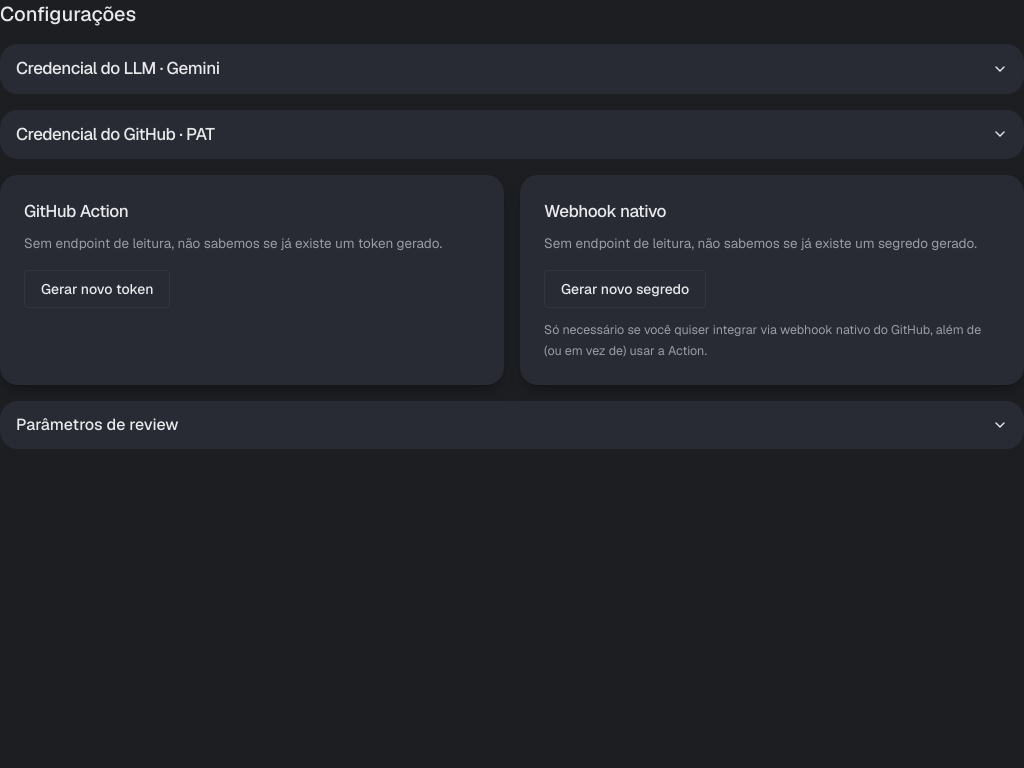
it: SettingsPage › generating a webhook secret shows both the URL and the secret in the modal
Click the button "Gerar novo segredo" at point(625, 289), box [544,270,706,308]
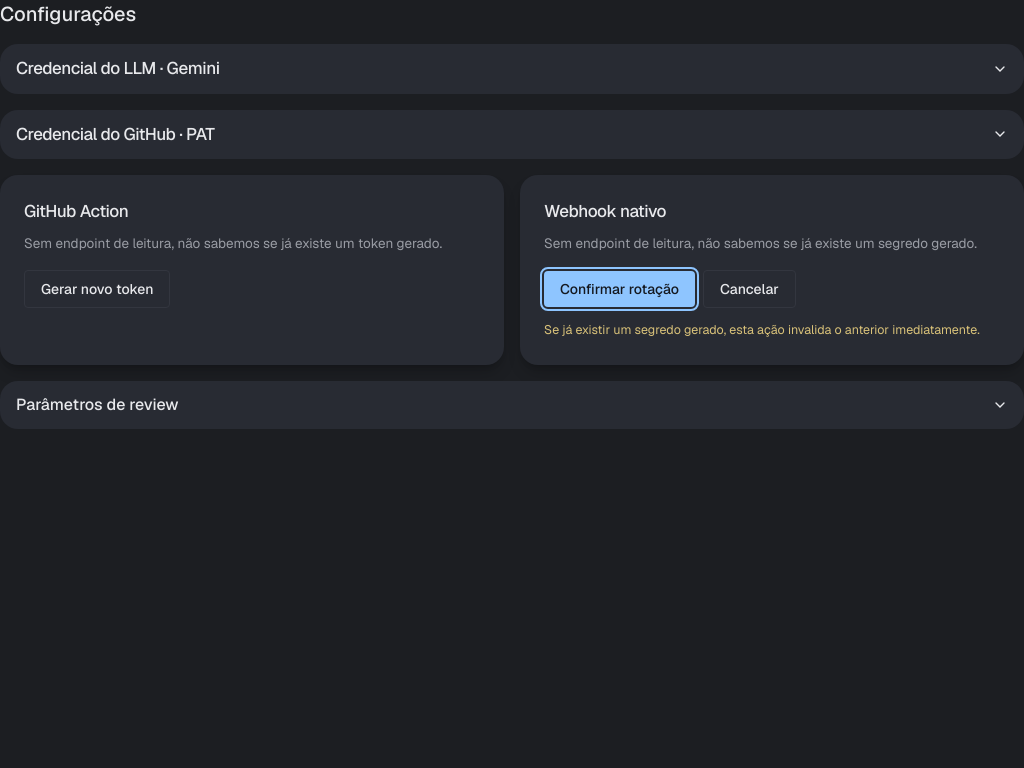
Click the button "Confirmar rotação" at point(619, 289), box [544,271,695,307]
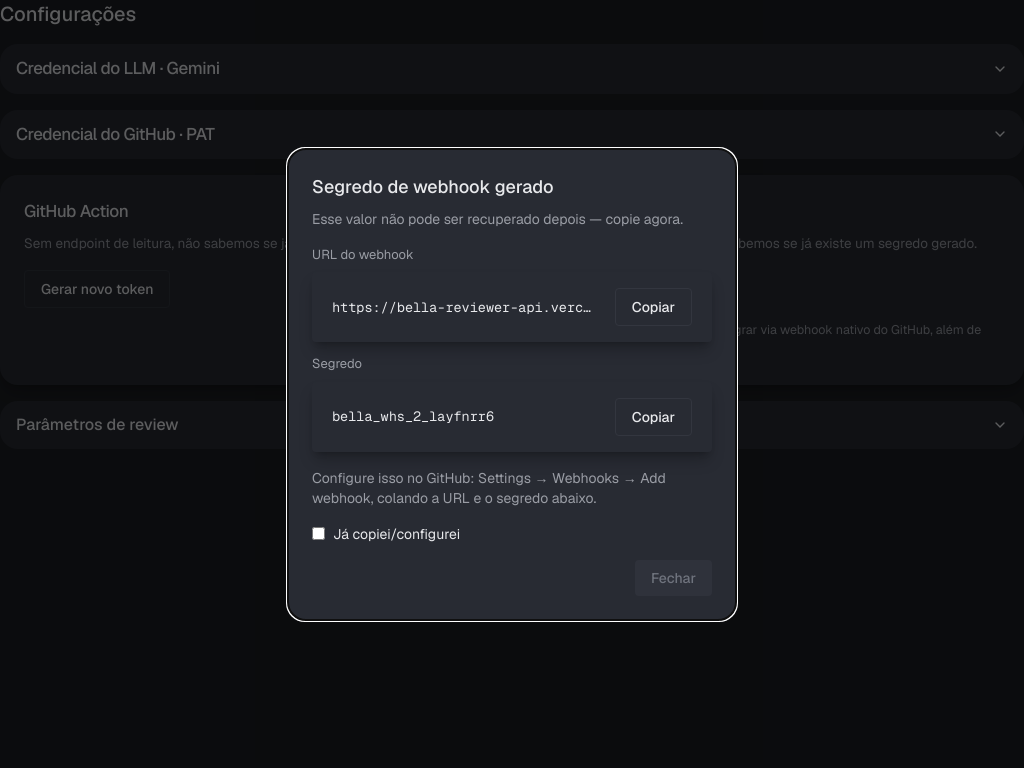
Check: the dialog shows "URL do webhook", box [312,246,414,262]
Check: the dialog shows "https://bella-reviewer-api.vercel.app/webhooks/github", box [332,298,761,316]
